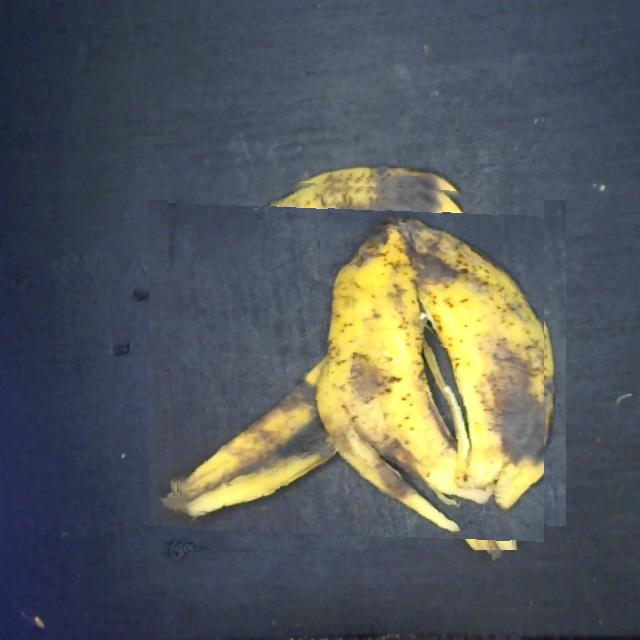biodegradable: (170, 176, 544, 550)
